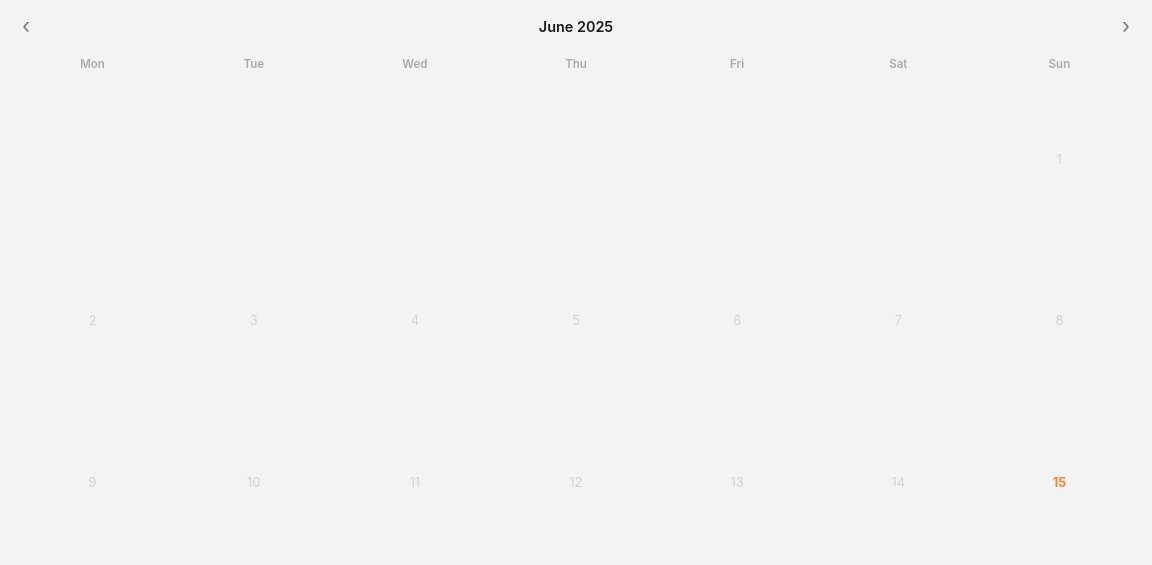
it: MiniCalendar › navigates to the next month
What coordinates should you click on to do the following:
click the button named "next month"
I would click on:
 (1126, 26)
Its box is [1114,14,1138,39].
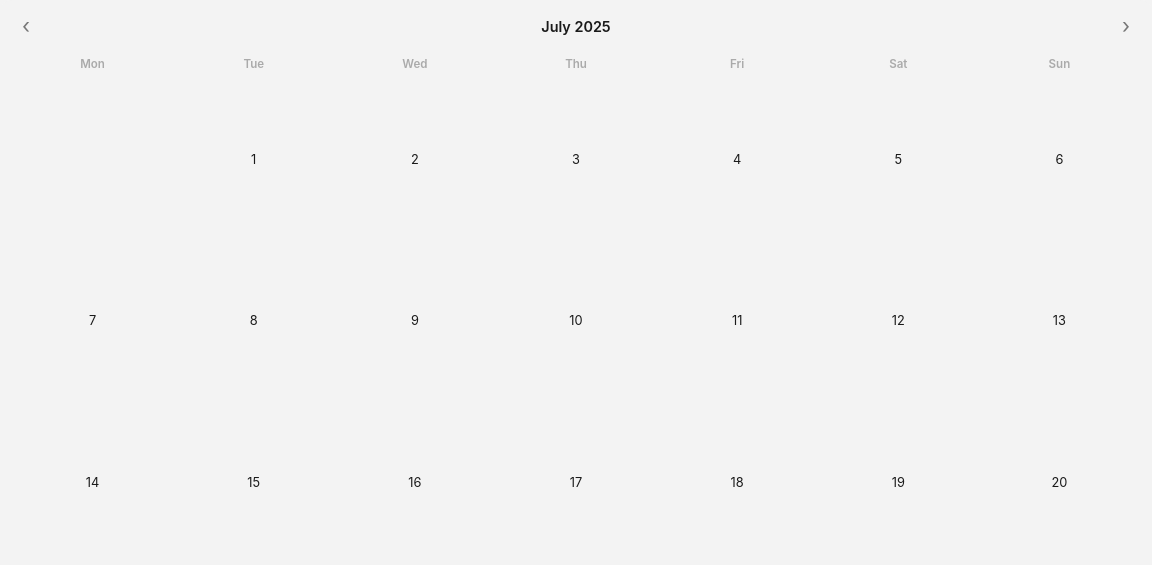
expect the text "July 2025" is shown: met, box [541,15,611,38]
